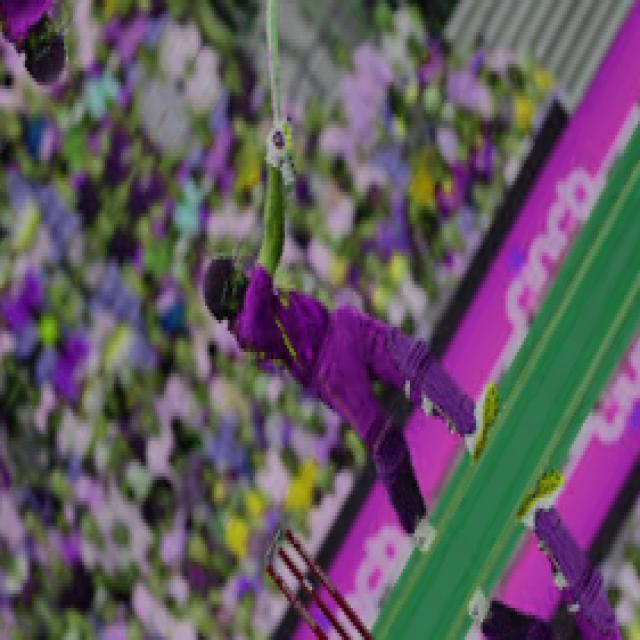toe: (264, 0, 279, 22)
